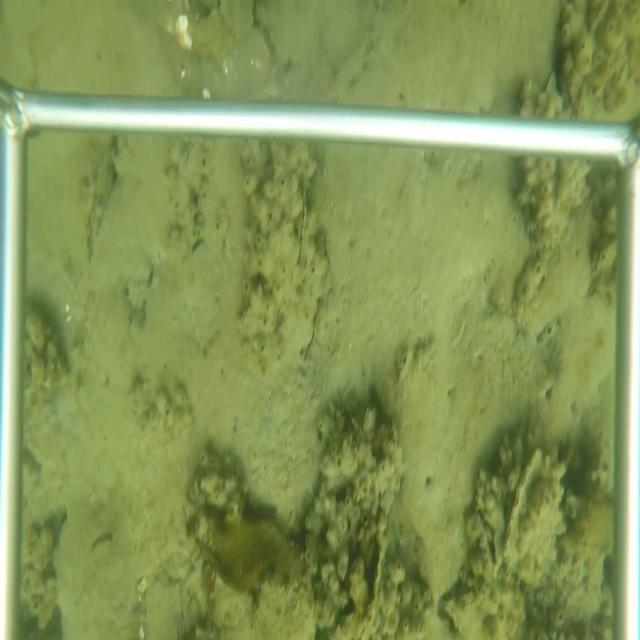Oyster-Closed: (498, 450, 570, 589)
